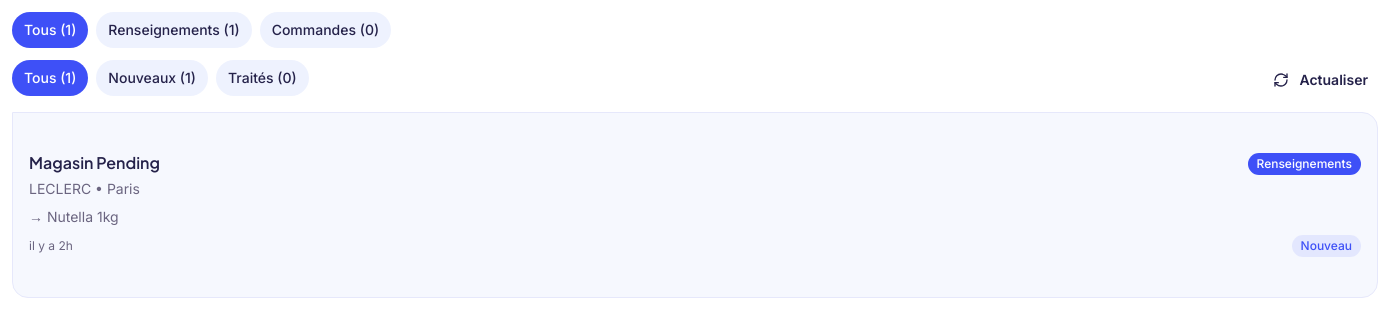
Test: SupplierRequestList › shows filtered empty state with TREATED status message
The width and height of the screenshot is (1390, 315).
What coordinates should you click on to do the following:
click the radio button "Traités (0)"
I would click on:
 (262, 78)
Its box is [216,60,309,96].
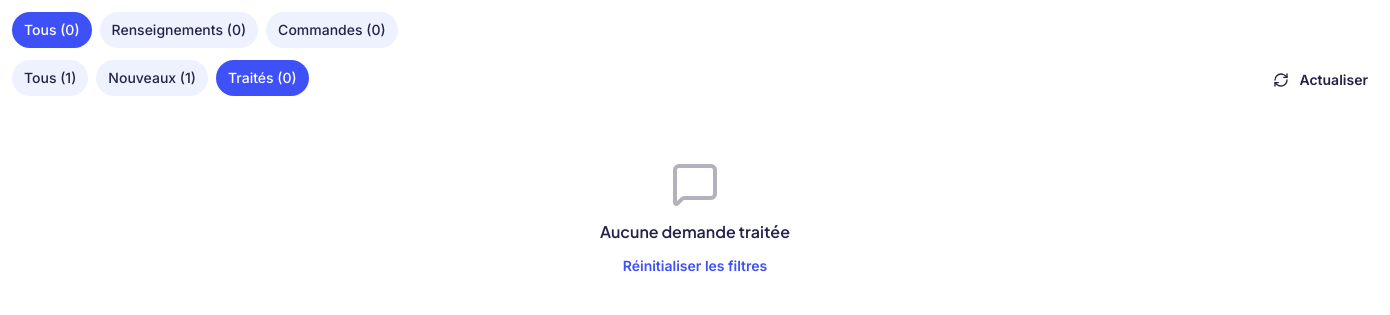
Now the text "Aucune demande traitée" is shown, box [600,220,790,244]
